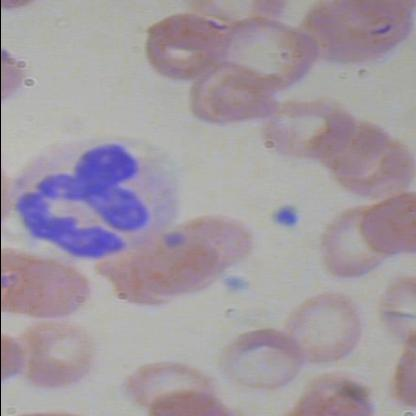Platelets: (267, 203, 303, 230), (221, 272, 257, 298)
RBC: (289, 0, 415, 75), (140, 8, 235, 84), (262, 90, 356, 166), (222, 322, 314, 398), (281, 292, 372, 368), (115, 352, 219, 416), (13, 320, 98, 396), (320, 203, 386, 281), (359, 185, 415, 264)
WBC: (4, 118, 182, 269)
